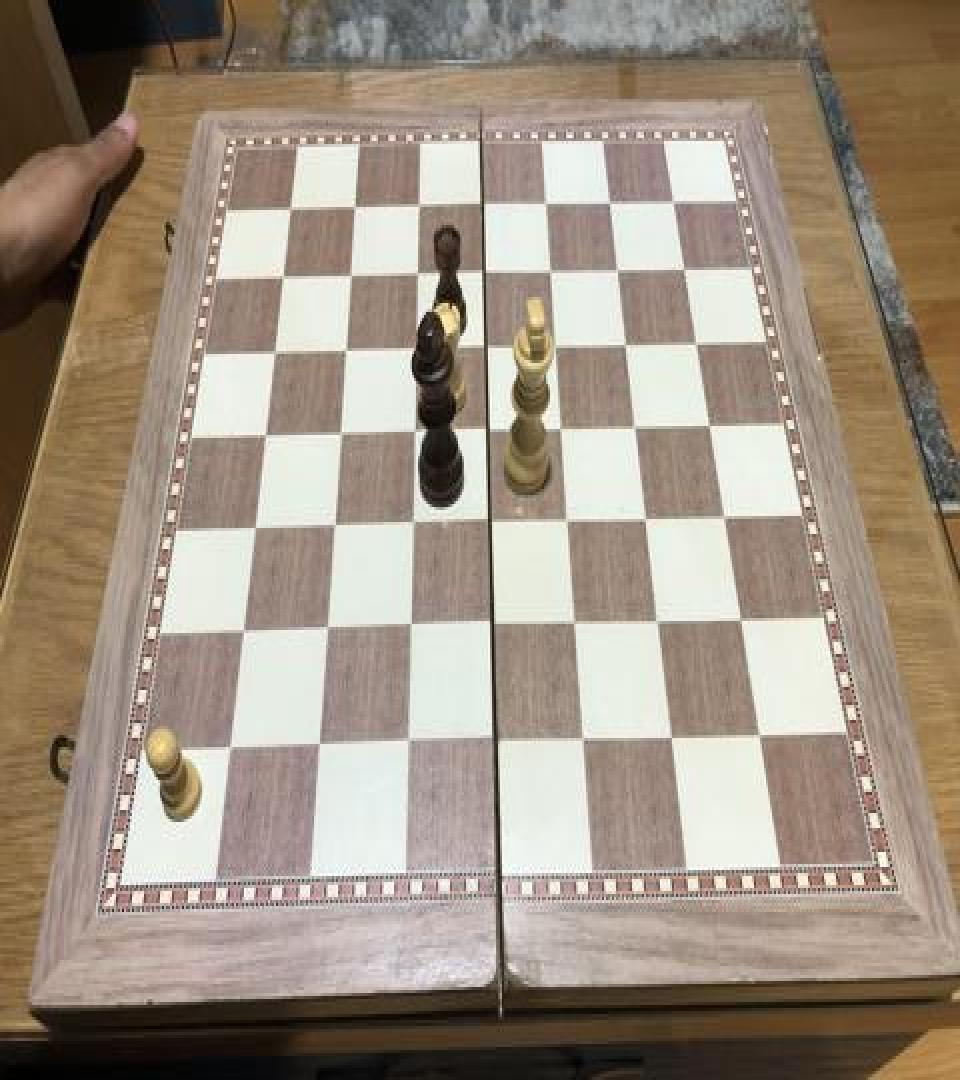xcorner: (396, 610, 420, 647), (393, 727, 417, 764), (664, 183, 688, 219), (600, 184, 624, 220), (535, 186, 559, 222), (407, 189, 431, 225), (343, 190, 367, 226), (279, 190, 303, 226), (674, 250, 698, 286), (607, 252, 631, 288), (540, 254, 564, 290), (473, 255, 497, 291), (405, 256, 429, 292), (338, 258, 362, 294), (686, 326, 710, 362), (616, 327, 640, 363), (474, 330, 498, 366), (403, 332, 427, 368), (333, 333, 357, 369), (262, 334, 286, 370), (700, 408, 724, 444), (625, 410, 649, 446), (550, 411, 574, 447), (401, 414, 425, 450), (327, 416, 351, 452), (252, 417, 276, 453), (714, 500, 738, 536), (635, 501, 659, 537), (556, 502, 580, 538), (478, 504, 502, 540), (399, 507, 423, 543), (320, 508, 344, 544), (241, 510, 265, 546), (731, 603, 755, 639), (647, 604, 671, 640), (563, 606, 587, 642), (480, 608, 504, 644), (313, 612, 337, 648), (229, 614, 253, 650), (749, 720, 773, 756), (660, 722, 684, 758), (571, 723, 595, 759), (482, 724, 506, 760), (304, 729, 328, 765), (215, 730, 239, 766), (471, 188, 495, 223), (271, 260, 295, 295), (545, 329, 569, 364), (476, 413, 500, 448)
